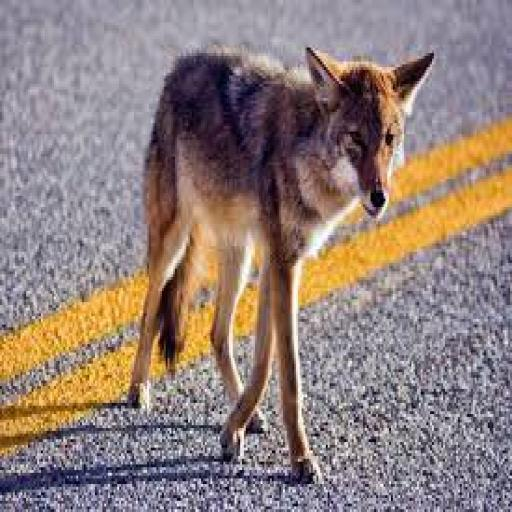wolf: (99, 21, 449, 498)
